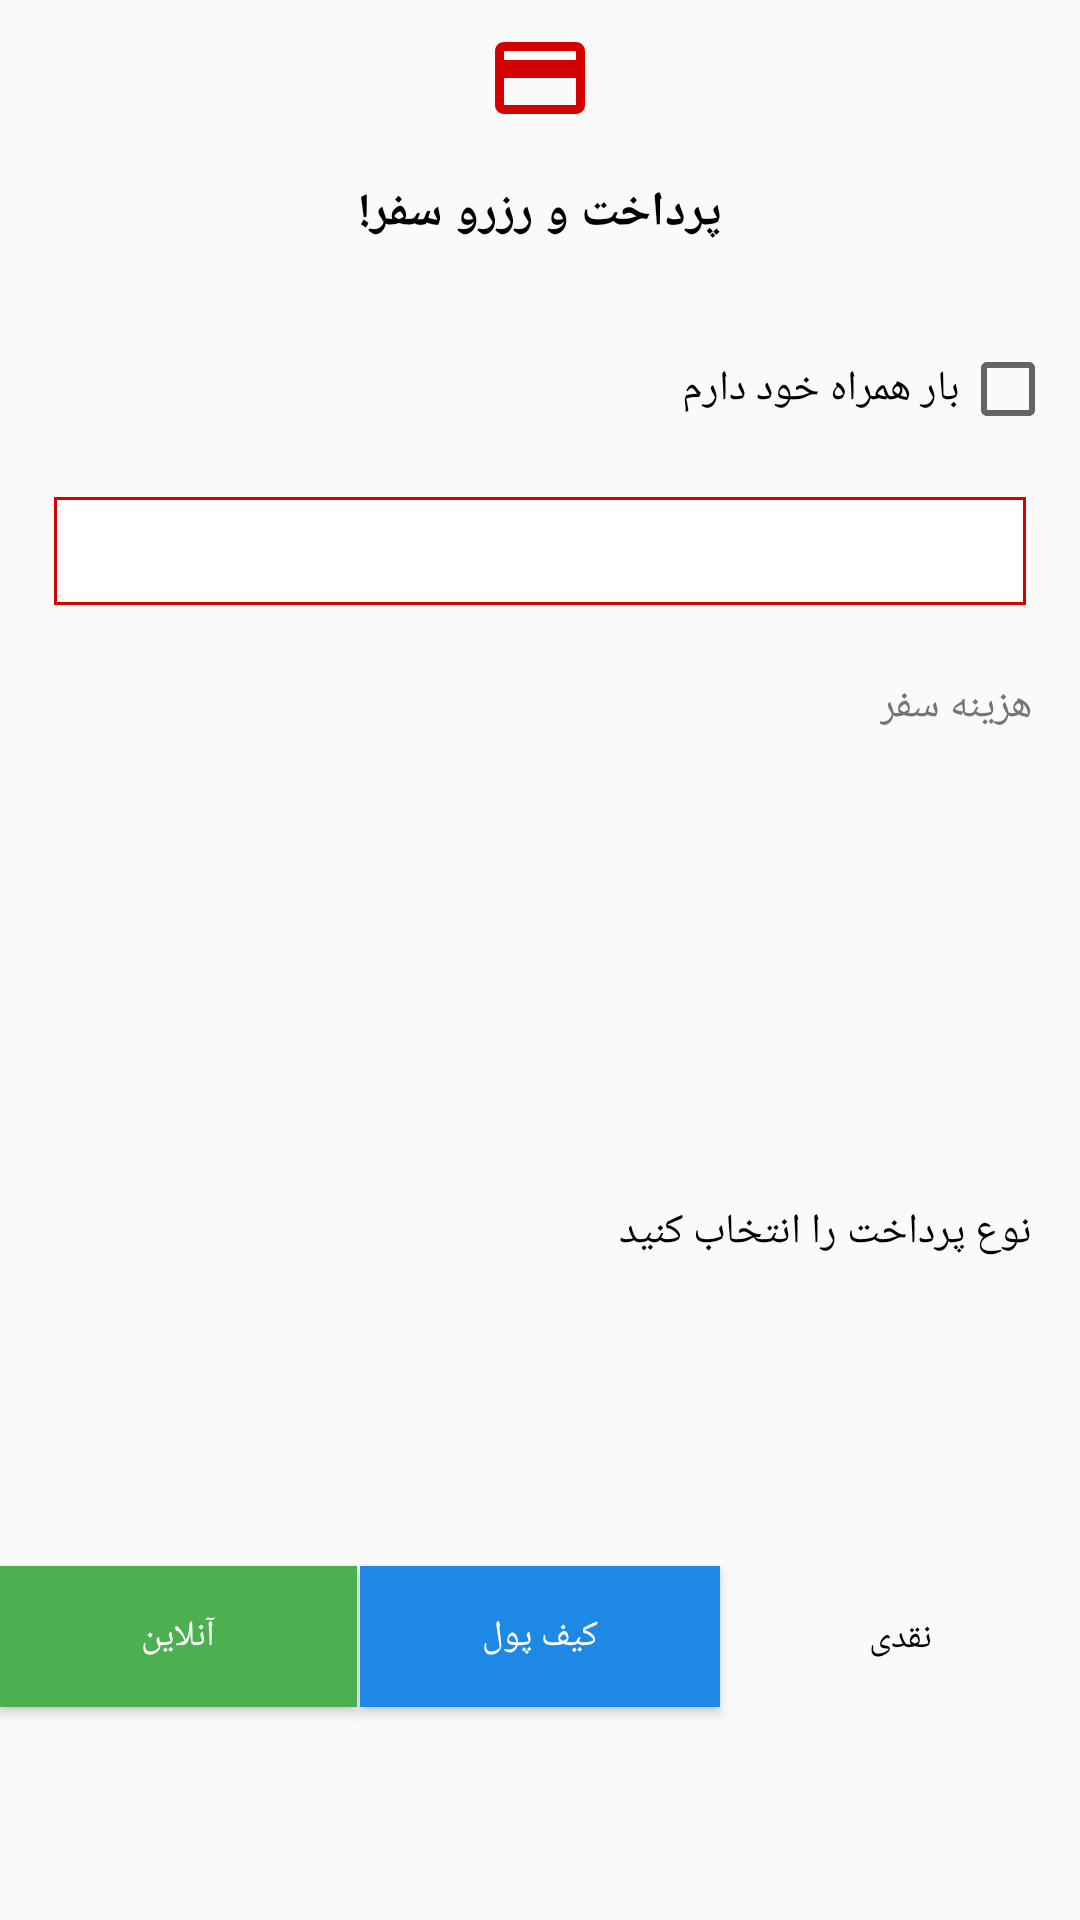

Locate icon controls on the screen. Image size 1080w x 1920h, boxes as (x1, y1, x2, y2).
payment: (495, 42, 585, 114)
